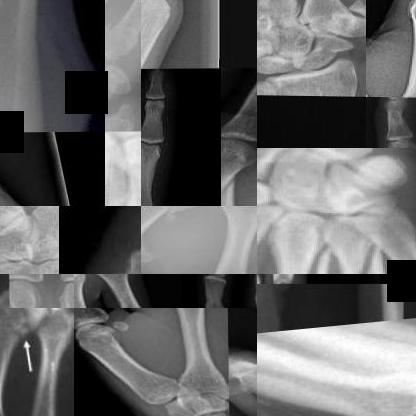fracture: (270, 235, 344, 273), (340, 234, 409, 273), (106, 15, 140, 56), (222, 167, 256, 206), (0, 308, 36, 340), (148, 206, 219, 222), (347, 0, 367, 24)
